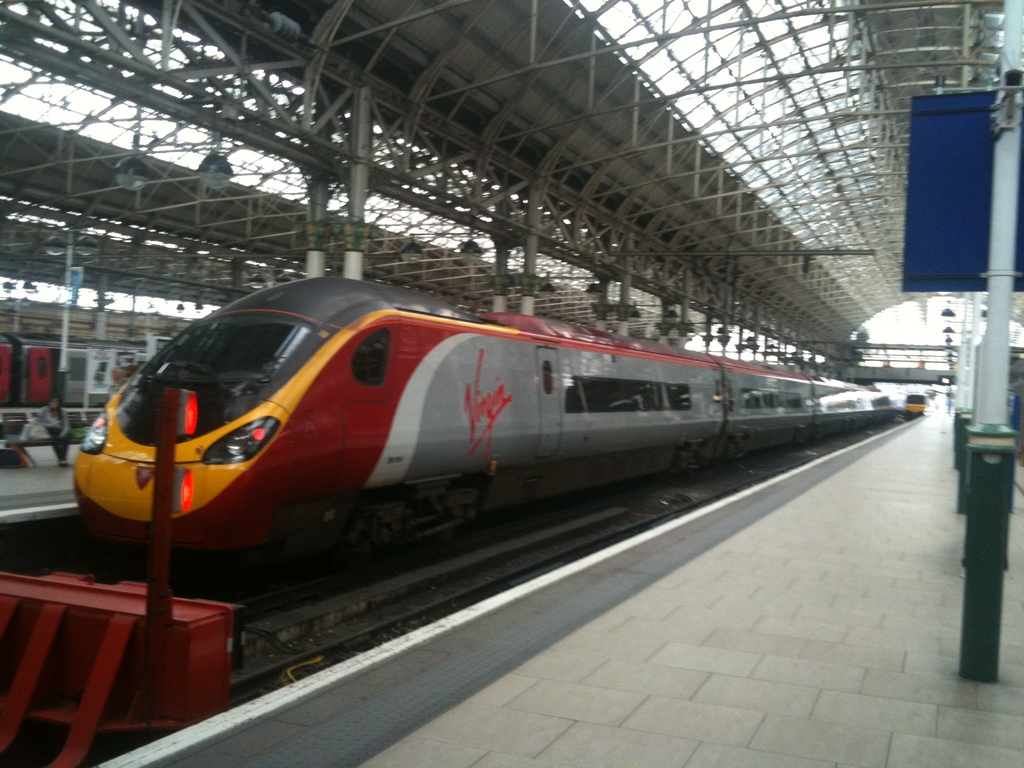train: (904, 387, 942, 419), (901, 390, 926, 419)
